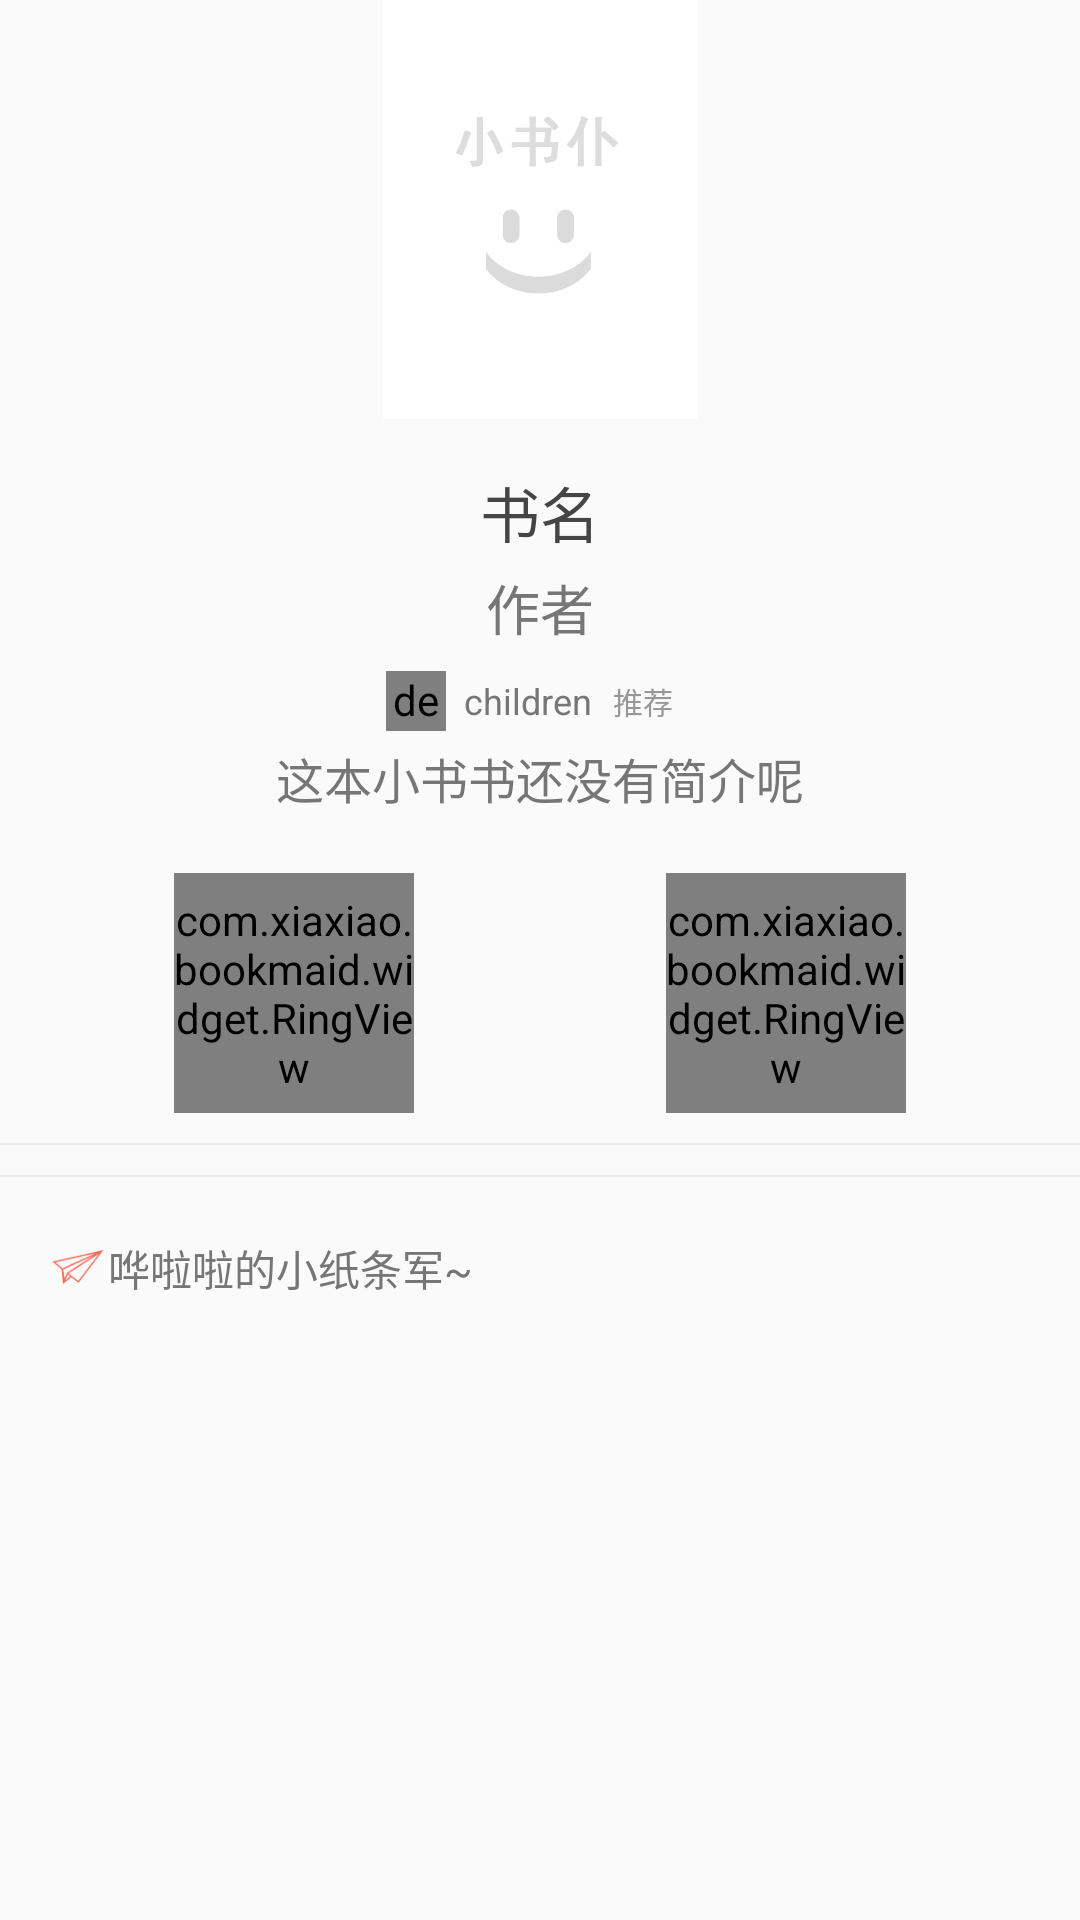

Locate icon controls on the screen. Image size 1080 x 1920, boxes as bbox=[x1, y1, x2, y2].
zhifeiji: bbox=[53, 1250, 104, 1284]
